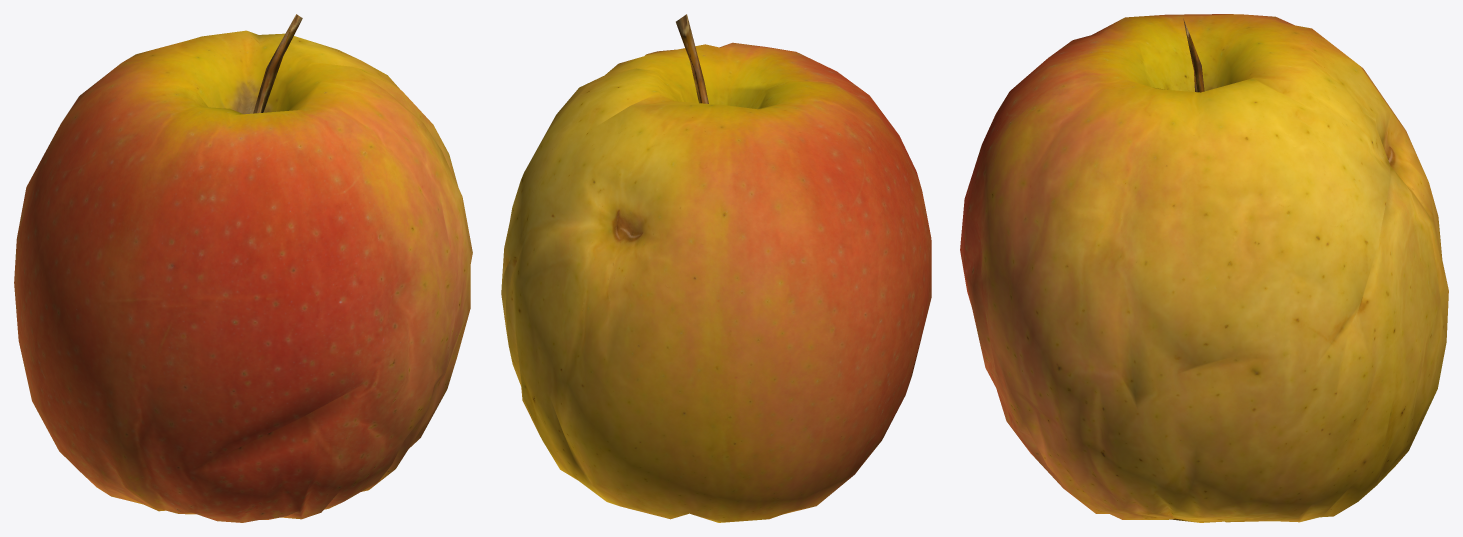
Rendered from 3DApple003_LQ-2K-JPG.obj.
The picture shows the model from 3 angles, left to right: view 1: azimuth 30°, elevation 25°; view 2: azimuth 150°, elevation 25°; view 3: azimuth 270°, elevation 25°; orthographic projection. The views are drawn at different scales.
Parts seen in each view (by area): view 1: 3DApple003_LQ-2K-JPG; view 2: 3DApple003_LQ-2K-JPG; view 3: 3DApple003_LQ-2K-JPG.
Part boxes in pixels (<box>): 3DApple003_LQ-2K-JPG: <box>14,14,472,522</box>; 3DApple003_LQ-2K-JPG: <box>501,14,931,522</box>; 3DApple003_LQ-2K-JPG: <box>960,14,1448,522</box>.
Bounding box in the file's own units: 0.096 × 0.1096 × 0.0982.
Materials: 1 (1 with a texture image).
